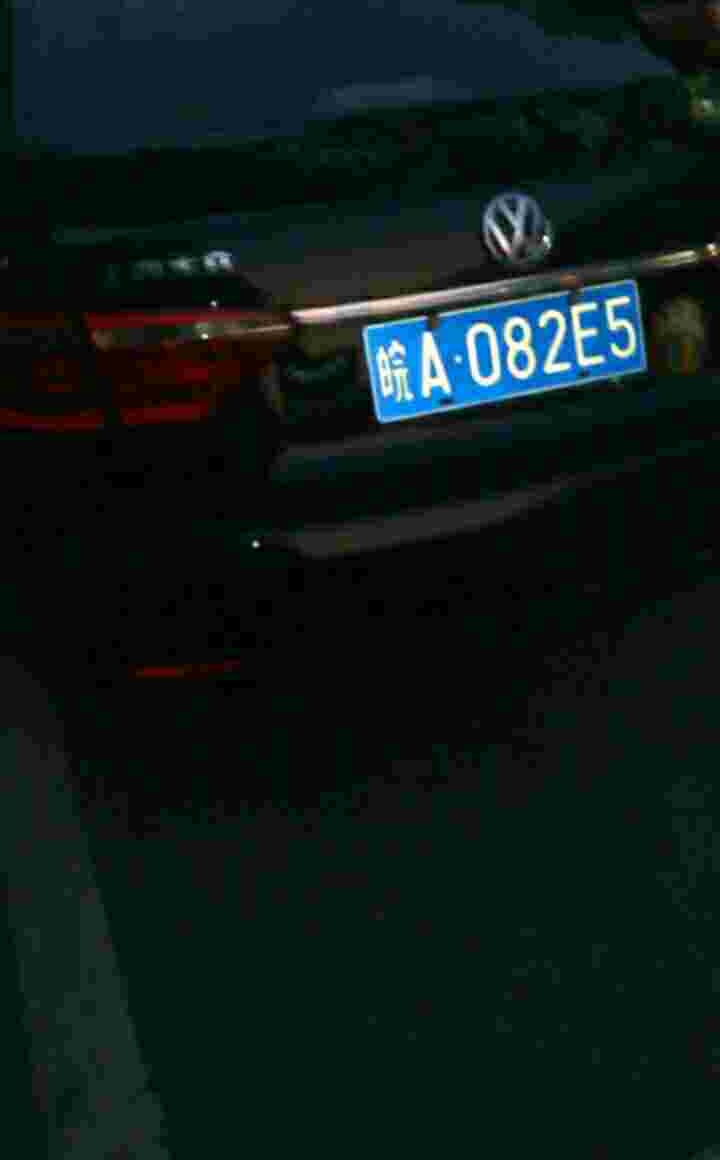license_plate: (366, 284, 646, 428)
